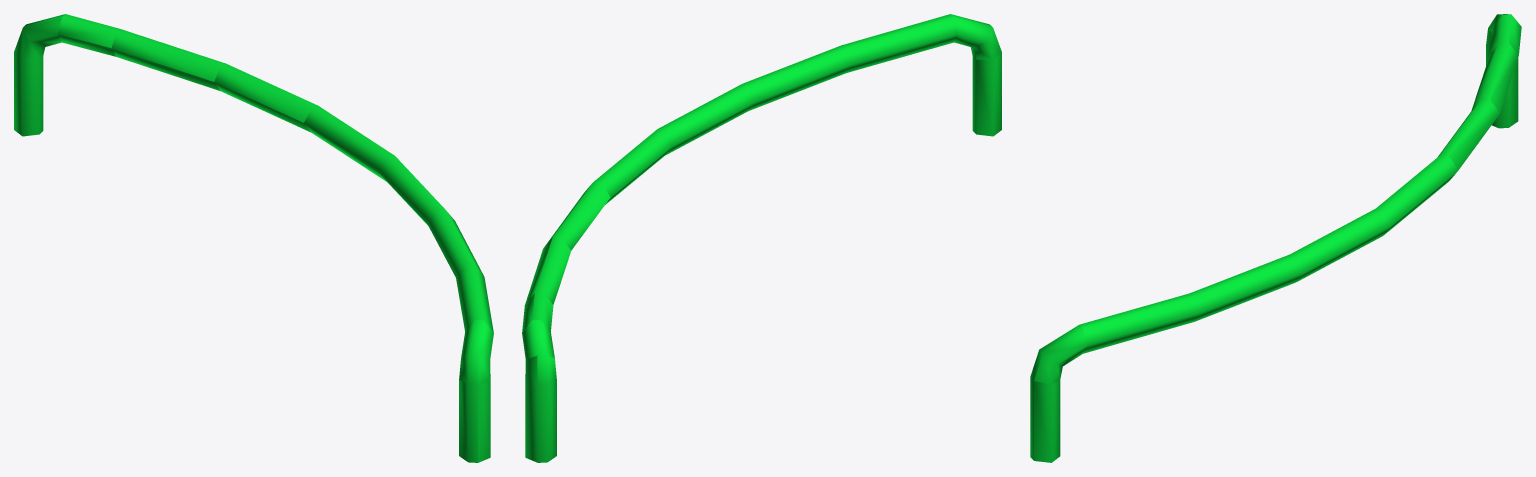
The model's file is Fence_01_C.fbx.
3 renders of one model, left to right at view 1: azimuth 30°, elevation 25°; view 2: azimuth 150°, elevation 25°; view 3: azimuth 330°, elevation 25°, orthographic. The views are drawn at different scales.
Visible parts, largest first — view 1: Fence_01_C; view 2: Fence_01_C; view 3: Fence_01_C.
Part boxes in pixels (left/top/right/bottom): Fence_01_C: left=14, top=14, right=493, bottom=462; Fence_01_C: left=522, top=14, right=1001, bottom=462; Fence_01_C: left=1030, top=14, right=1521, bottom=462.
Bounding box in the file's own units: 2.85 × 2.28 × 15.73.
